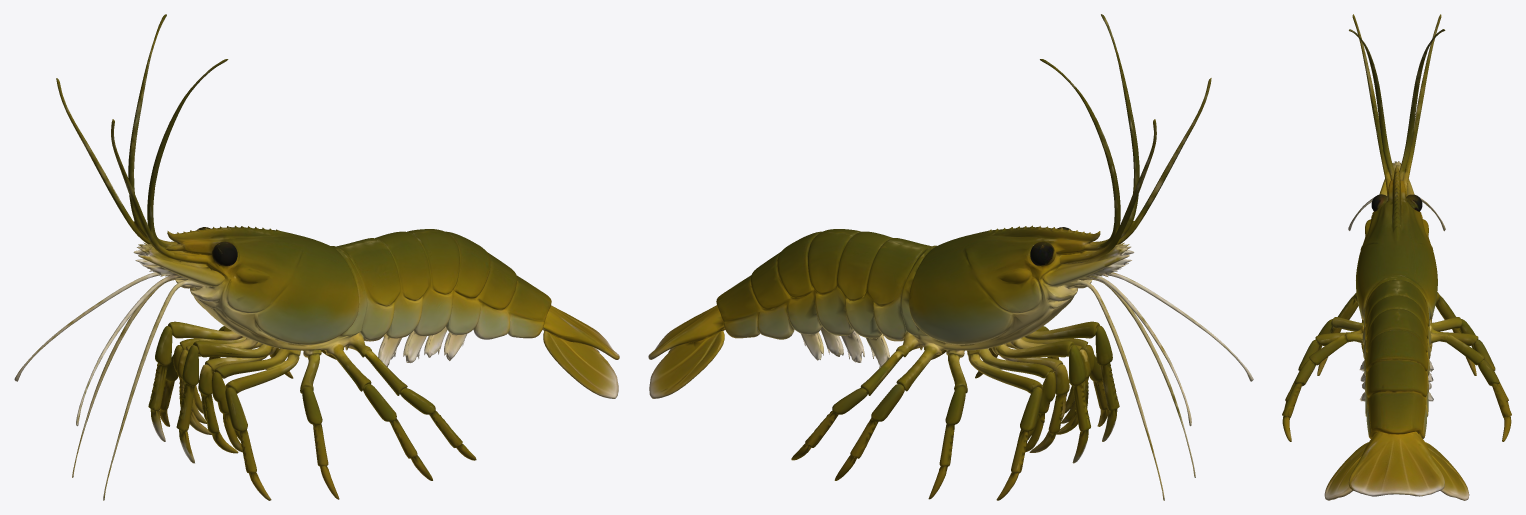
File: shrimp.glb
The picture shows the model from 3 angles, left to right: view 1: azimuth 30°, elevation 25°; view 2: azimuth 150°, elevation 25°; view 3: azimuth 270°, elevation 25°; orthographic projection. The views are drawn at different scales.
Parts seen in each view (by area): view 1: node_0; view 2: node_0; view 3: node_0.
Boxes of the visible parts, box(x1,y1,x2,y2) form: node_0: box(14, 14, 619, 500); node_0: box(648, 14, 1253, 500); node_0: box(1282, 14, 1511, 500).
Size of the model in its own units: 1.02 by 0.7585 by 0.4668.
Materials: 1 (1 with a texture image).
